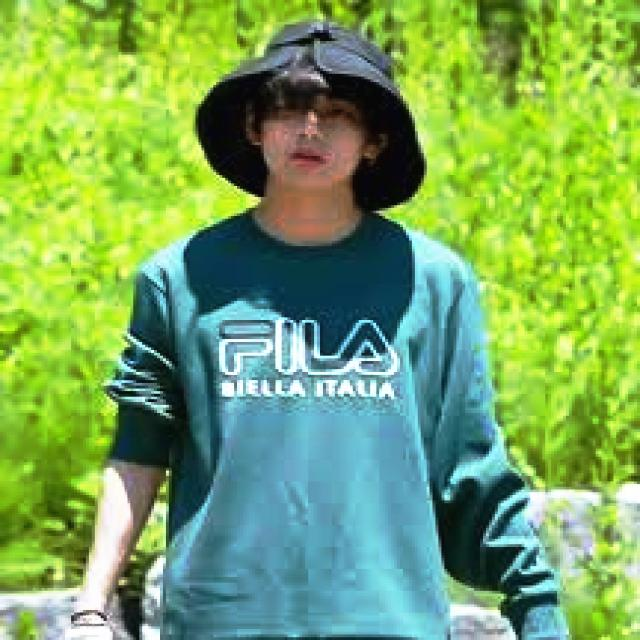TOPI: (190, 13, 430, 218)
